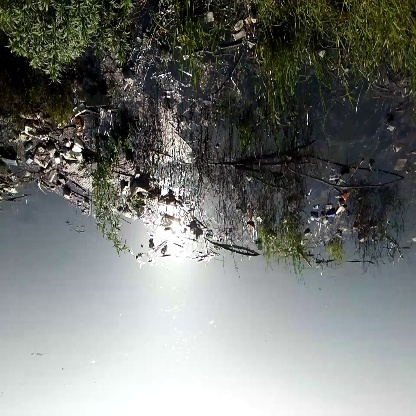branch: (282, 156, 408, 192)
